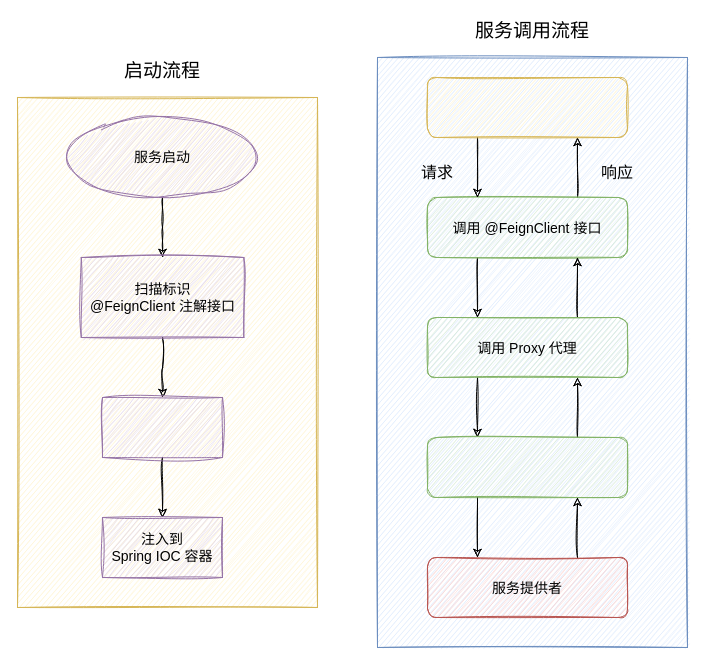
Some shapes in this 705 by 665 pixel diagram are drawn without their labels. The centre of each missing label's shape, as x and y in pixels:
"Feign Client 发起 HTTP 请求" goes at (x=527, y=467).
"创建代理实例 Proxy" goes at (x=162, y=427).
"服务调用" goes at (x=527, y=107).
